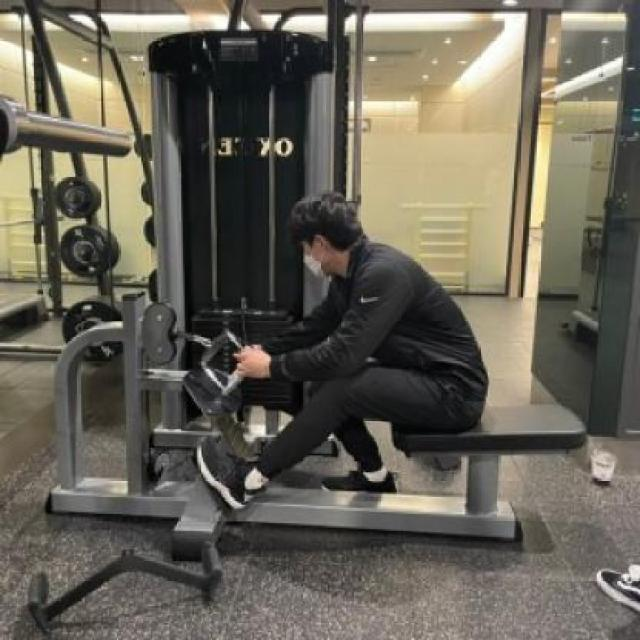Seated Cable Rows: (32, 40, 591, 571)
